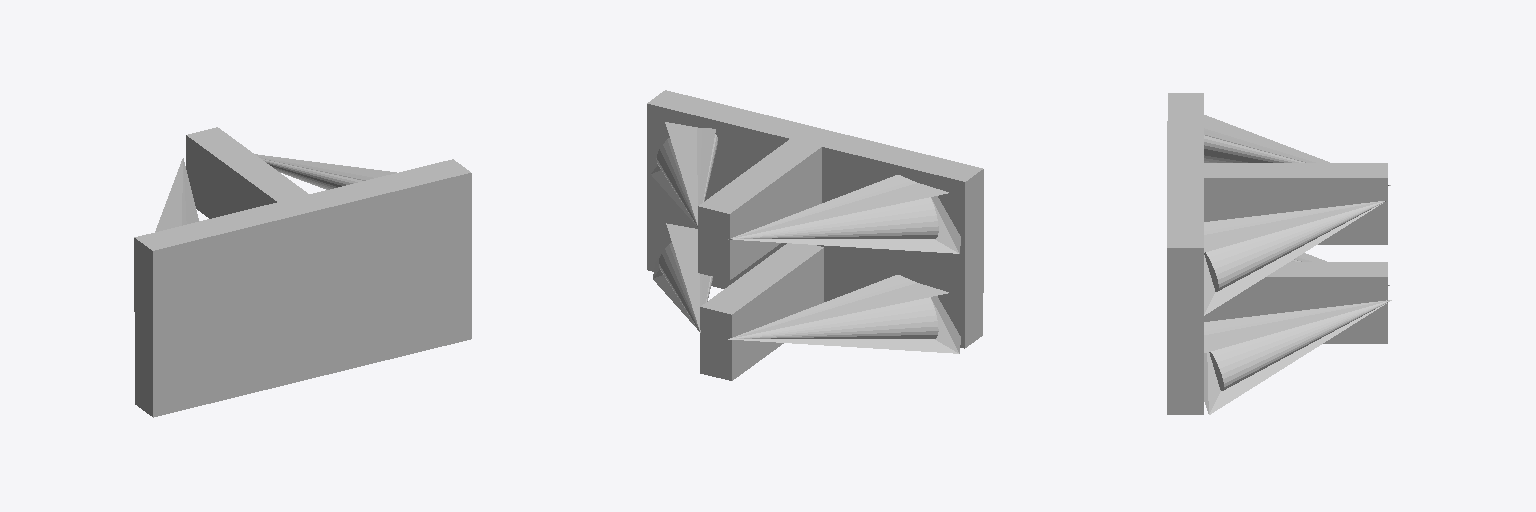
The picture shows the model from 3 angles: view 1: azimuth 30°, elevation 25°; view 2: azimuth 150°, elevation 25°; view 3: azimuth 270°, elevation 25°; orthographic projection.
Visible parts, largest first — view 1: base_base_Cone_004; view 2: base_base_Cone_004; view 3: base_base_Cone_004.
Boxes of the visible parts, x1=… form: base_base_Cone_004: x1=134, y1=127, x2=471, y2=417; base_base_Cone_004: x1=647, y1=90, x2=983, y2=380; base_base_Cone_004: x1=1167, y1=93, x2=1391, y2=414.
Size of the model in its own units: 20.02 by 10.3 by 12.27.